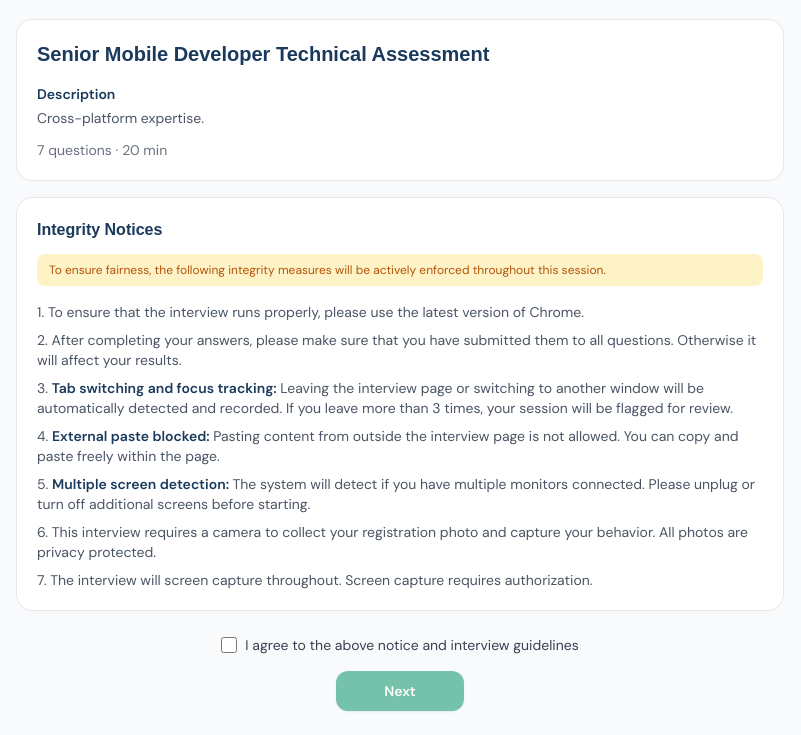
Test: Checklist step › NEGATIVE: Start Interview is disabled until every item is done or skipped
Later steps or results of the test are not shown.
Click the checkbox at (229, 645), box x1=221 y1=637 x2=237 y2=653
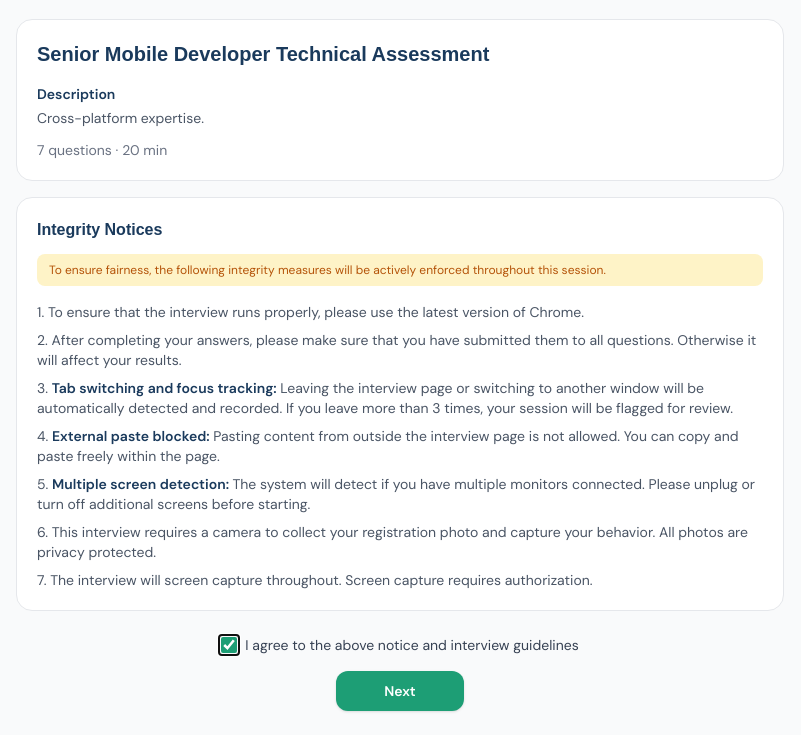
Click the button "Next" at (400, 691), box x1=336 y1=671 x2=464 y2=711
(page scrolled)
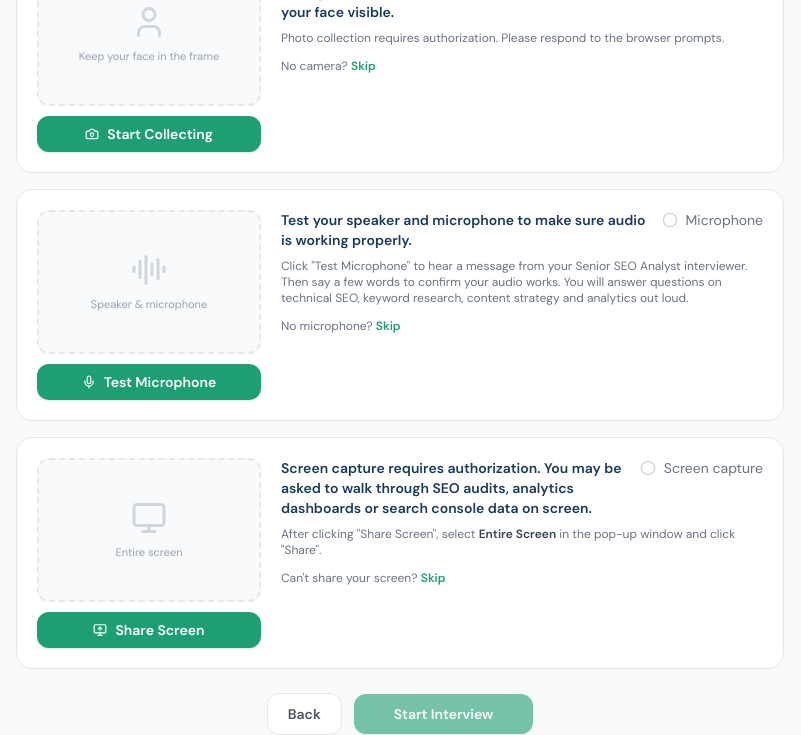
Check: the button "Start Interview" is disabled, box x1=354 y1=694 x2=533 y2=734
